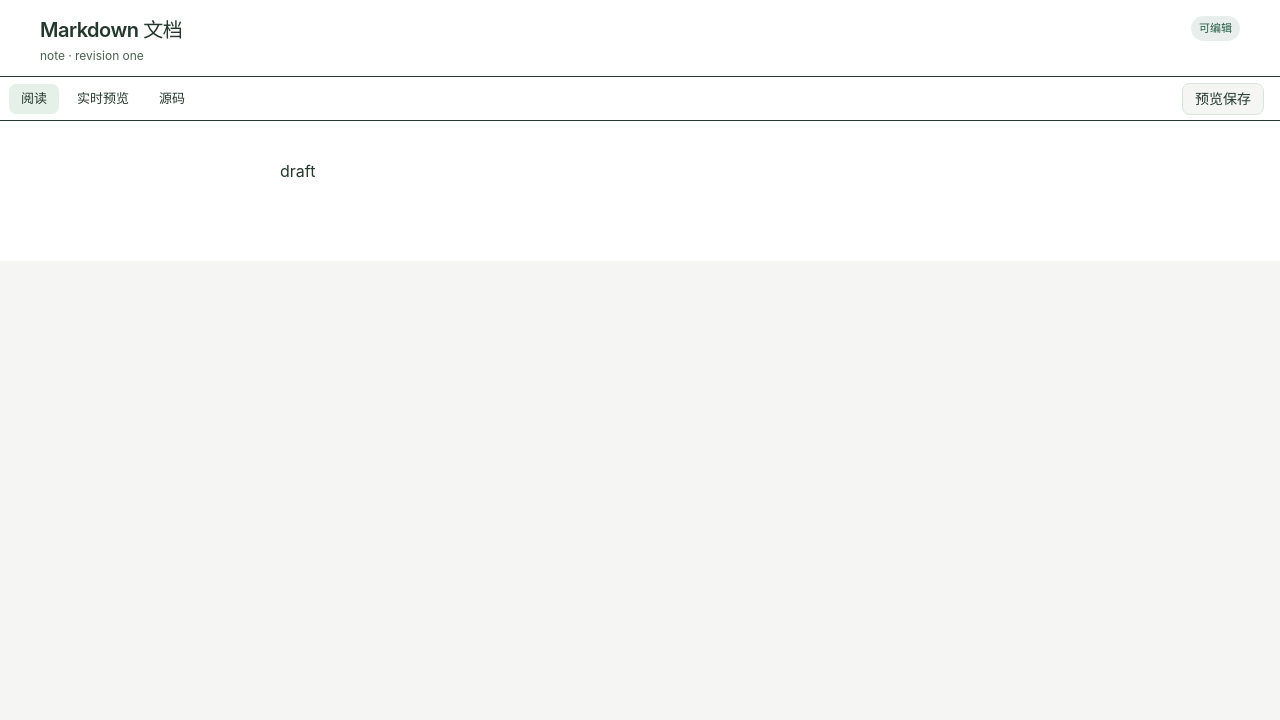
Test: does not treat network plus not-found as proof of rejection
Click the button "预览保存" at (1223, 98), box [1182,82,1264,114]
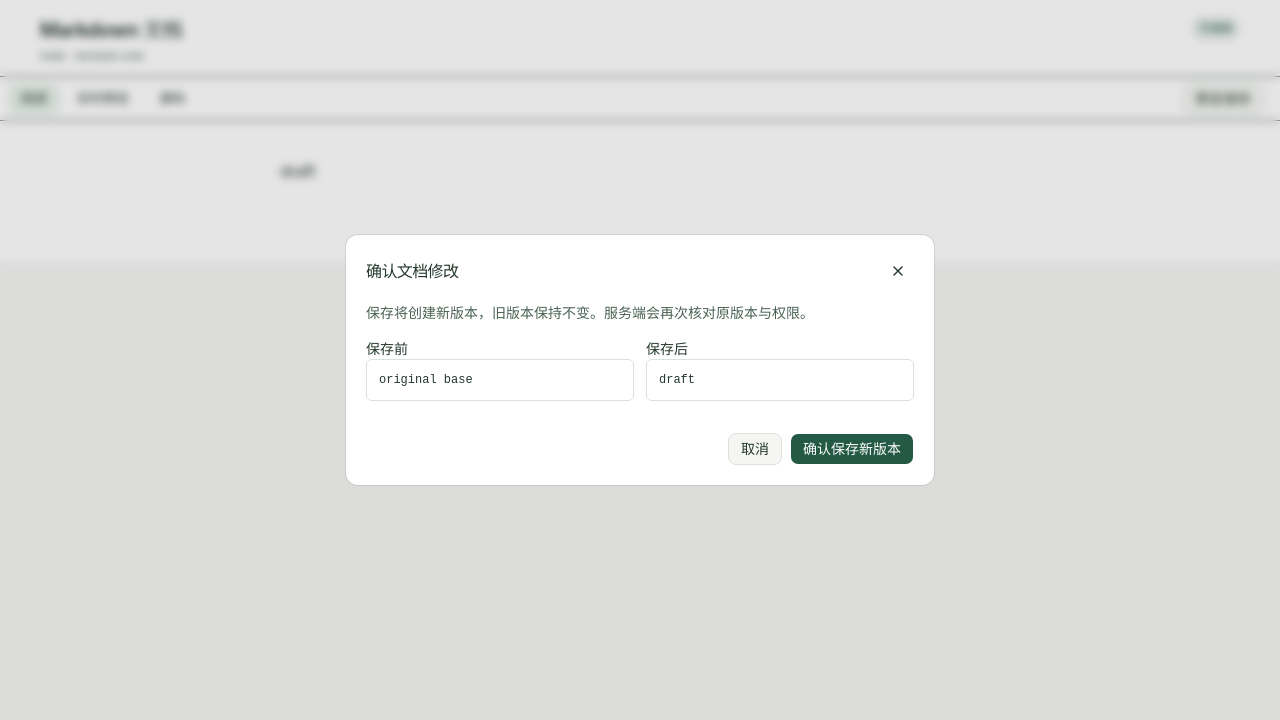
Click the button "确认保存新版本" at (852, 449), box [790,433,914,465]
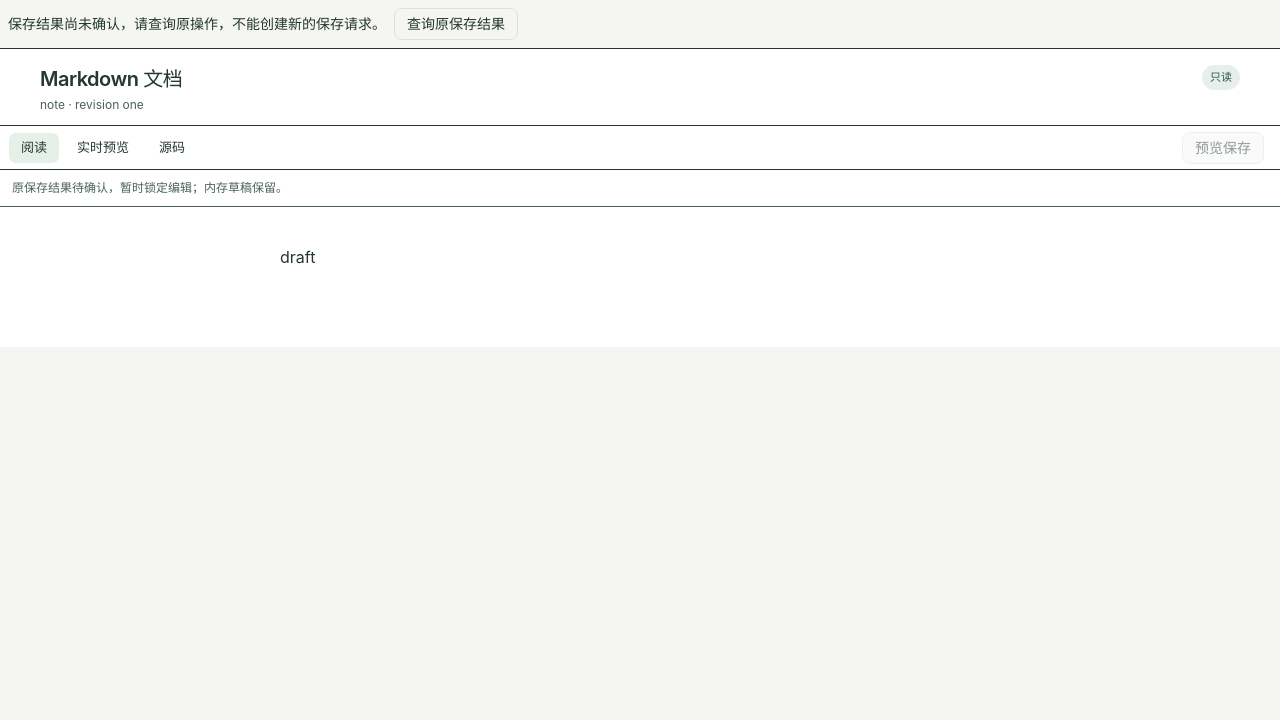
Click the button "查询原保存结果" at (456, 24), box [394,8,518,40]
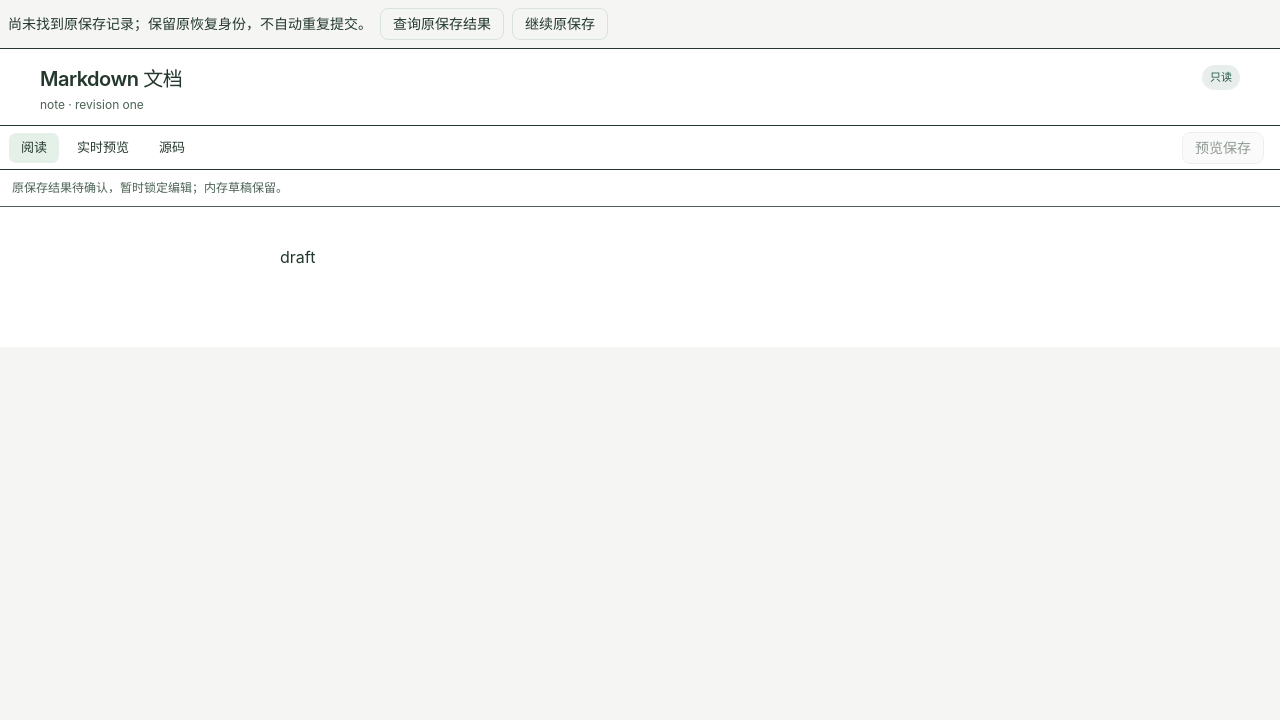
Expected: the text "尚未找到原保存记录；保留原恢复身份，不自动重复提交。" is shown, [8,14,372,34]
